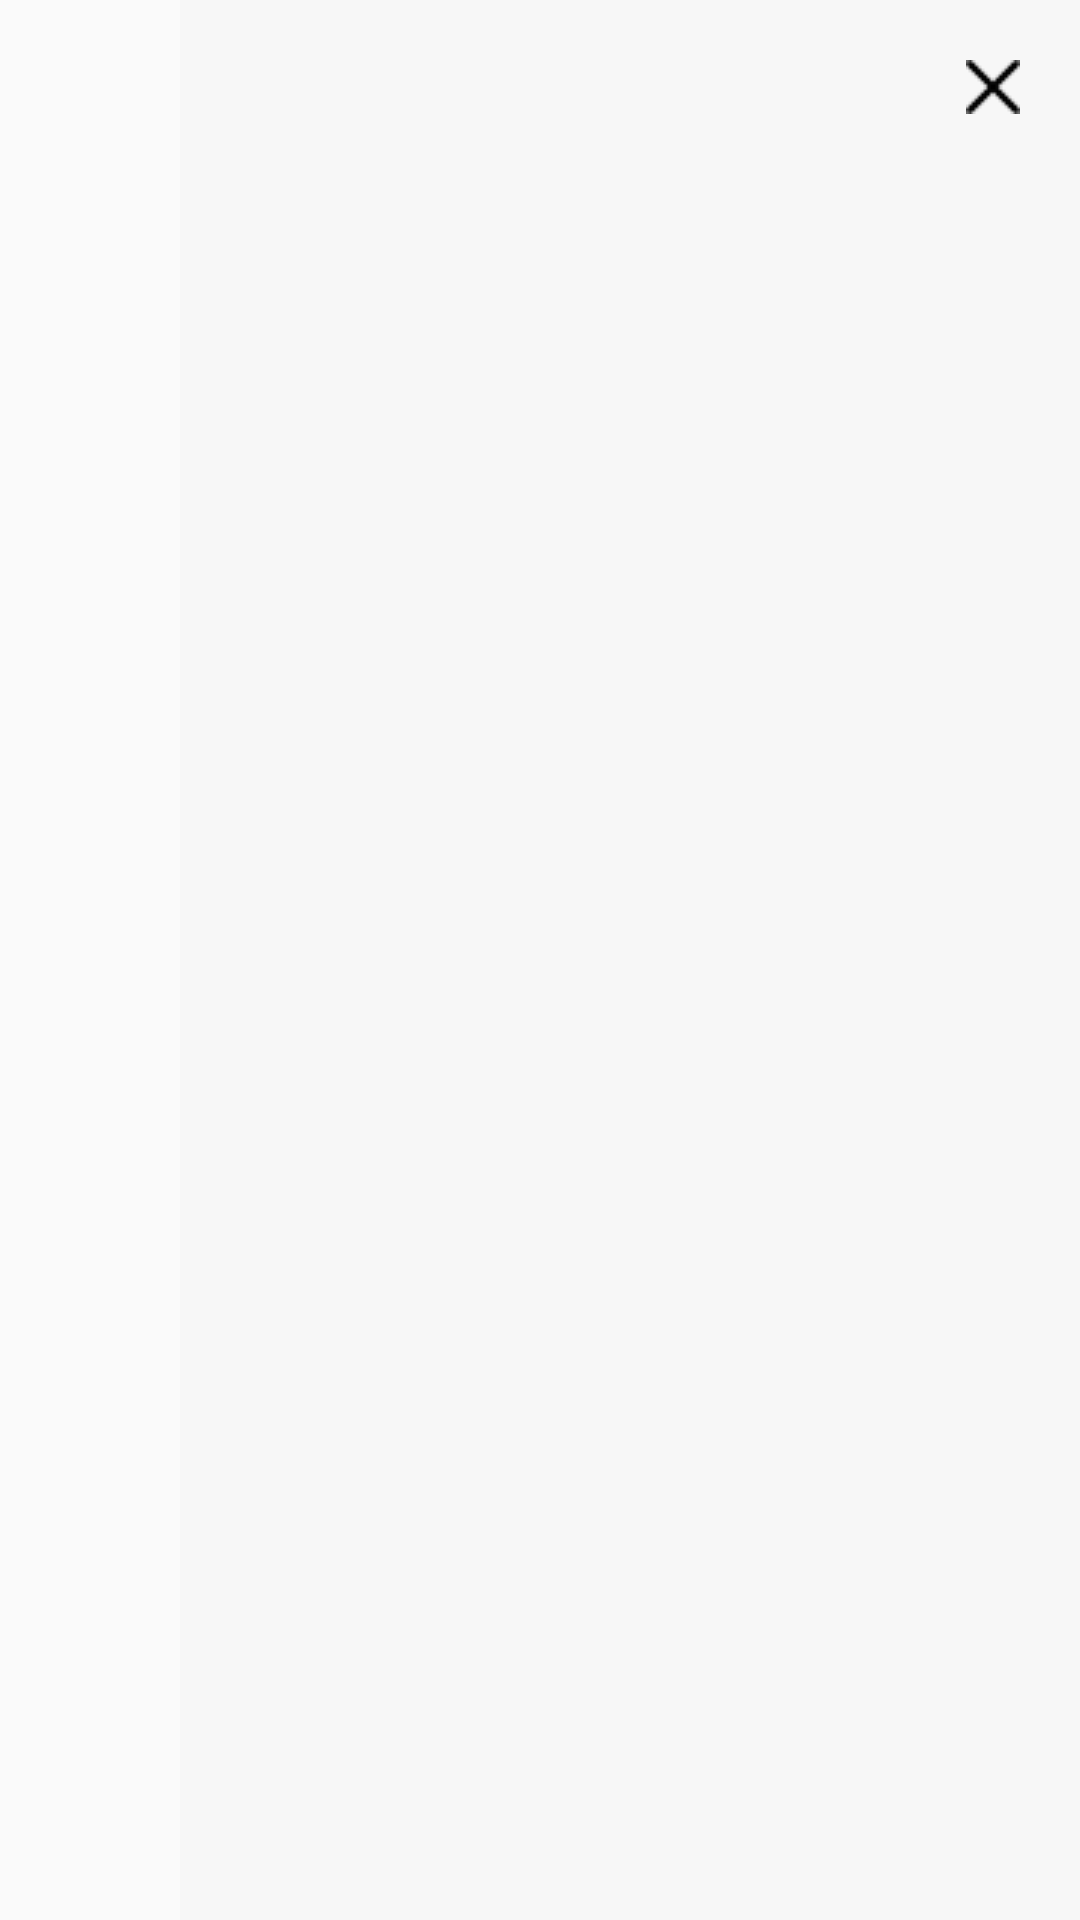

Icons on this 1080x1920 Android screen, each with its box as (x1, y1, x2, y2):
del: (966, 60, 1020, 114)
